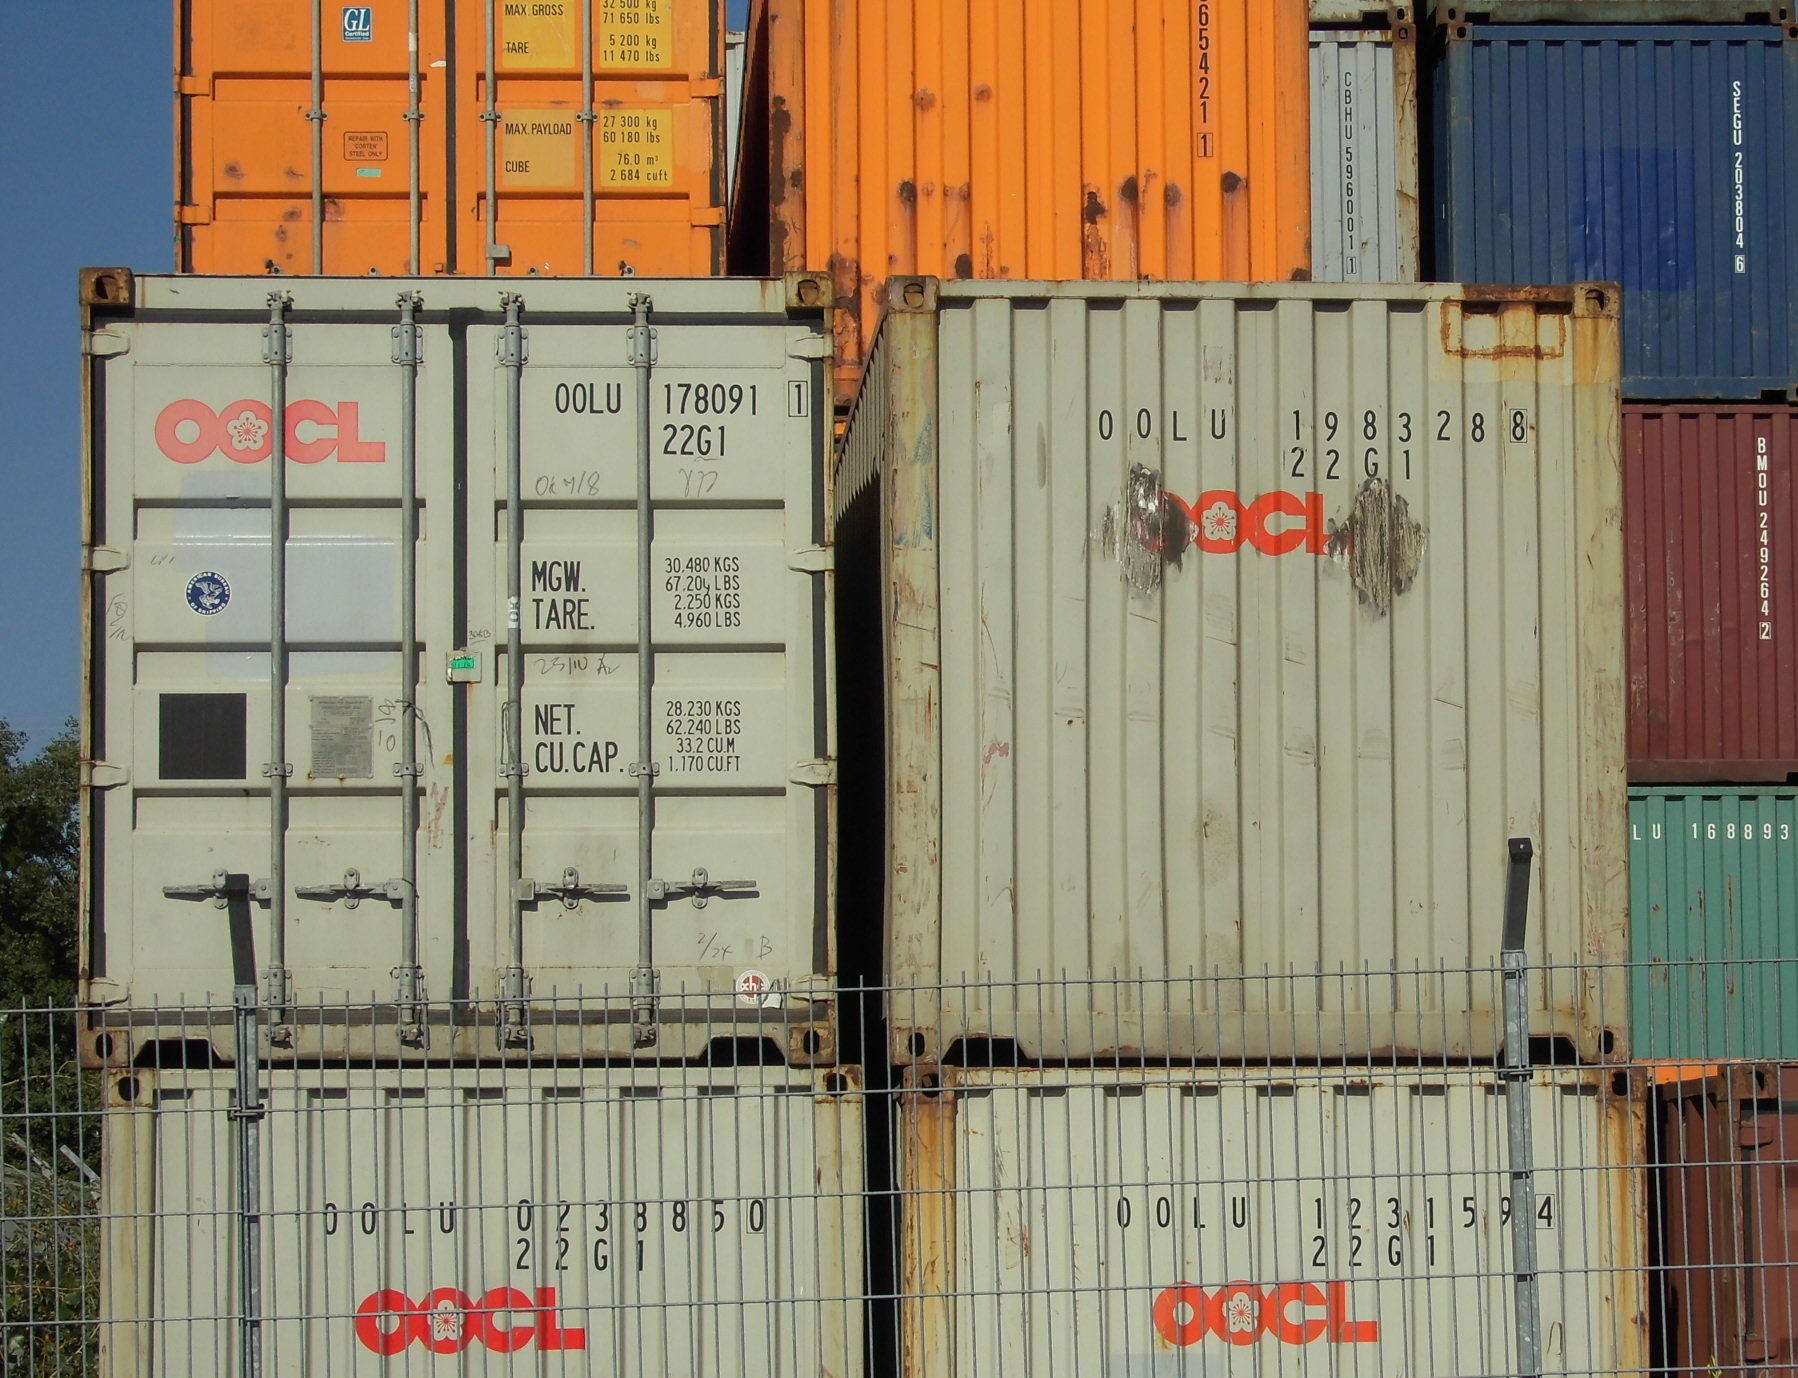container_door: (93, 287, 830, 1060), (162, 1, 719, 278)
container_no_door: (898, 281, 1634, 1070), (100, 1075, 871, 1378), (916, 1075, 1650, 1378), (770, 1, 1317, 278)
